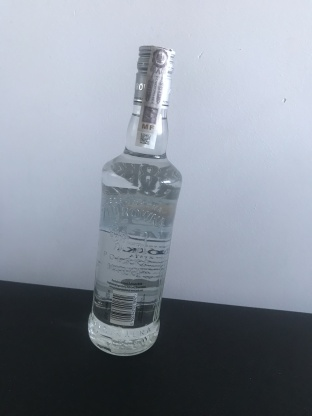nakretka: (131, 41, 177, 112)
